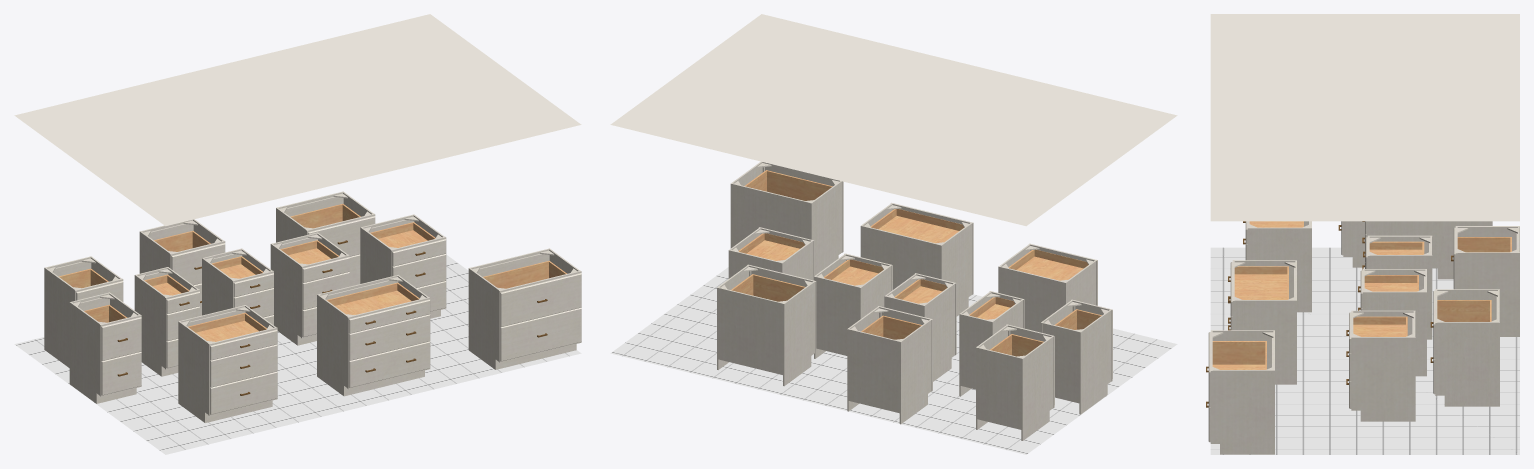
Rendered from DB_Cab.dae.
The picture shows the model from 3 angles, left to right: view 1: azimuth 30°, elevation 25°; view 2: azimuth 150°, elevation 25°; view 3: azimuth 270°, elevation 25°; orthographic projection. The views are drawn at different scales.
Visible parts, largest first — view 1: Ceiling, Floor, DB36-2 (×5), DB36 (×6), DB30 (×5), DB18-2 (×3), DB24 (×4), DB21 (×3), DB15 (×2), DB18 (×3), DB30-2 (×3), DB21-2 (+1 smaller); view 2: Ceiling, Floor, DB30-2 (×3), DB24-2 (×3), DB36-2 (×3), DB36 (×3), DB21-2 (×2), DB18-2 (×2), DB30 (×3), DB21 (×2), DB24 (×3), DB15 (×2) (+1 smaller); view 3: Ceiling, Floor, DB36-2 (×3), DB30-2 (×3), DB24 (×4), DB36 (×4), DB24-2 (×3), DB21 (×4), DB30 (×2), DB18 (×3), DB21-2, DB15 (+1 smaller).
Boxes of the visible parts, left/top/right/bottom form: Ceiling: left=14, top=14, right=581, bottom=226; Floor: left=14, top=254, right=581, bottom=454; DB36-2 (×5): left=468, top=254, right=581, bottom=369; DB36 (×6): left=317, top=283, right=430, bottom=396; DB30 (×5): left=178, top=320, right=277, bottom=422; DB18-2 (×3): left=69, top=302, right=141, bottom=403; DB24 (×4): left=360, top=227, right=446, bottom=311; DB21 (×3): left=270, top=243, right=349, bottom=345; DB15 (×2): left=134, top=274, right=199, bottom=376; DB18 (×3): left=202, top=258, right=273, bottom=317; DB30-2 (×3): left=276, top=204, right=375, bottom=256; DB21-2: left=44, top=267, right=75, bottom=367; Ceiling: left=610, top=14, right=1177, bottom=226; Floor: left=610, top=267, right=1177, bottom=454; DB30-2 (×3): left=718, top=274, right=814, bottom=386; DB24-2 (×3): left=848, top=316, right=931, bottom=424; DB36-2 (×3): left=732, top=170, right=842, bottom=275; DB36 (×3): left=862, top=216, right=972, bottom=316; DB21-2 (×2): left=977, top=336, right=1053, bottom=440; DB18-2 (×2): left=1042, top=310, right=1111, bottom=414; DB30 (×3): left=1000, top=256, right=1096, bottom=332; DB21 (×2): left=815, top=265, right=891, bottom=355; DB24 (×3): left=730, top=240, right=812, bottom=280; DB15 (×2): left=960, top=299, right=1022, bottom=389; Ceiling: left=1210, top=14, right=1519, bottom=221; Floor: left=1210, top=247, right=1519, bottom=454; DB36-2 (×3): left=1212, top=330, right=1274, bottom=454; DB30-2 (×3): left=1437, top=289, right=1499, bottom=406; DB24 (×4): left=1353, top=310, right=1415, bottom=421; DB36 (×4): left=1234, top=260, right=1296, bottom=384; DB24-2 (×3): left=1457, top=226, right=1519, bottom=336; DB21 (×4): left=1364, top=269, right=1426, bottom=376; DB30 (×2): left=1249, top=221, right=1311, bottom=312; DB18 (×3): left=1369, top=235, right=1432, bottom=339; DB21-2: left=1431, top=221, right=1492, bottom=279; DB15: left=1369, top=221, right=1431, bottom=235.
Size of the model in its own units: 183 by 117 by 96.
Materials: 7 (5 with a texture image).
